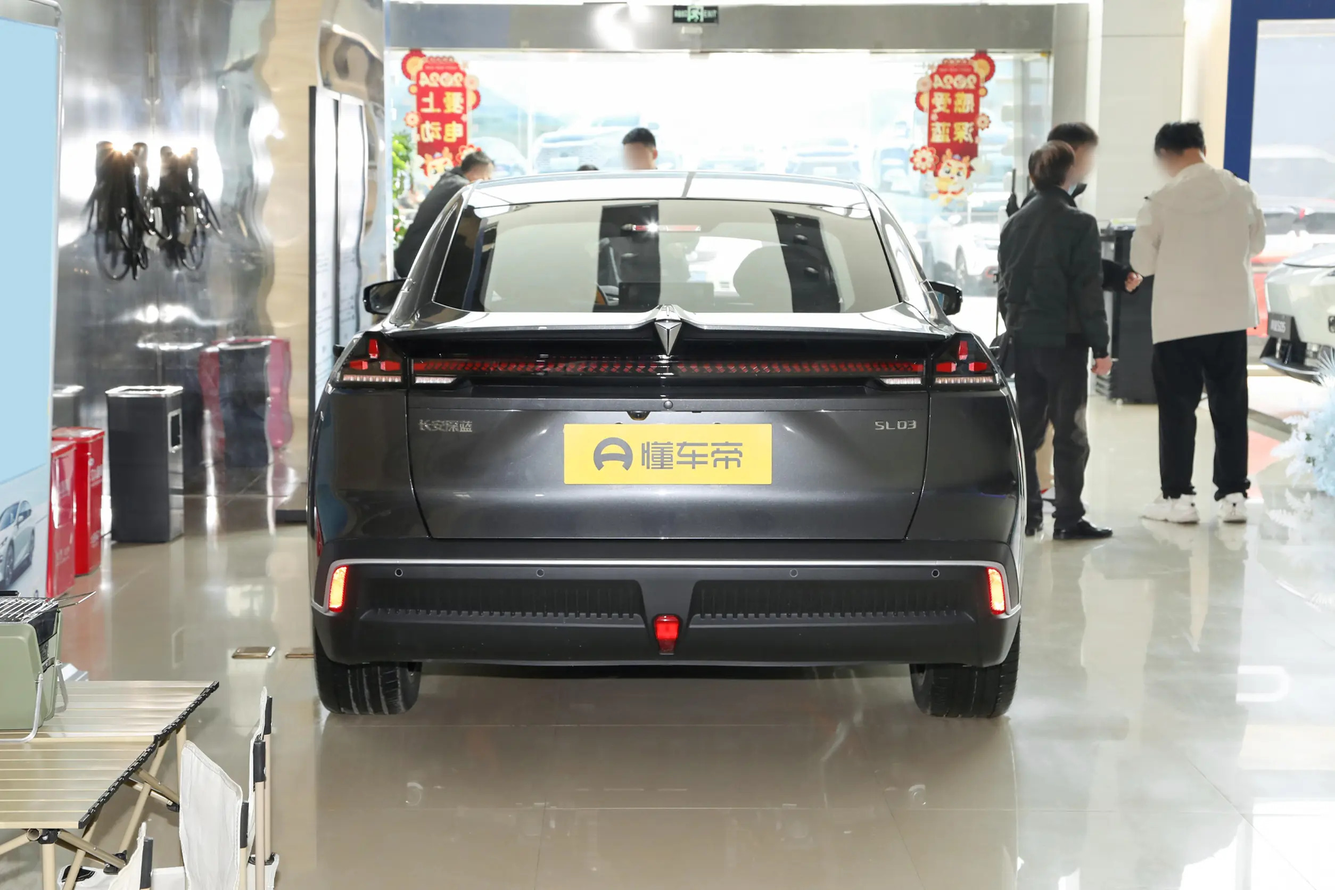Deepal: (654, 323, 682, 355)
